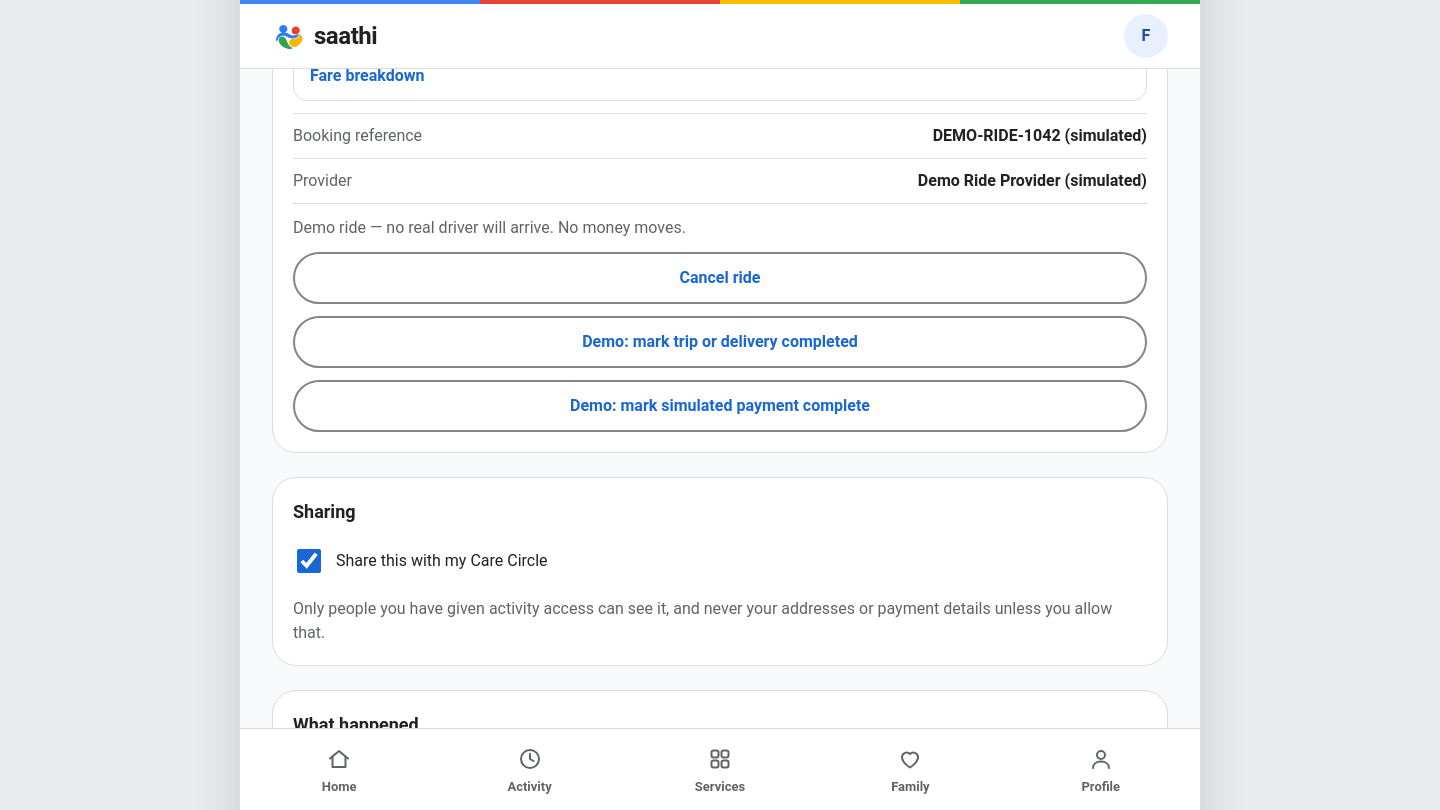
Test case: no celebration for permission denied
The width and height of the screenshot is (1440, 810).
(page scrolled)
Click the button "Demo: mark simulated payment complete". click: click(720, 406)
box: [293,380,1147,432]
(page scrolled)
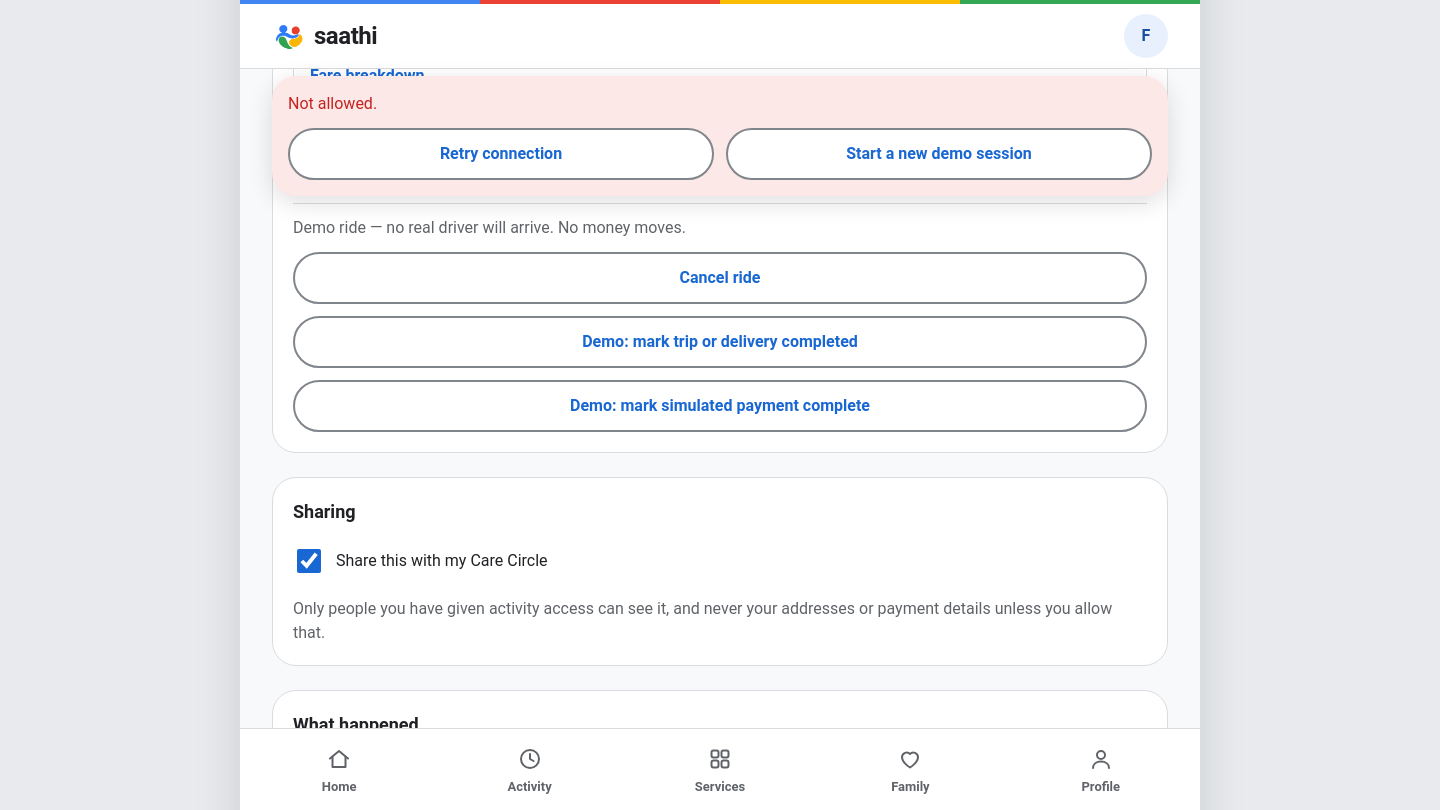
Check: the message "Not allowed. Retry connection Start a new demo session" is shown, box [272,76,1168,196]
